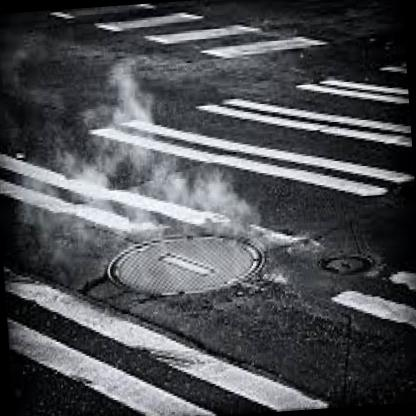manholes: (82, 195, 288, 331)
